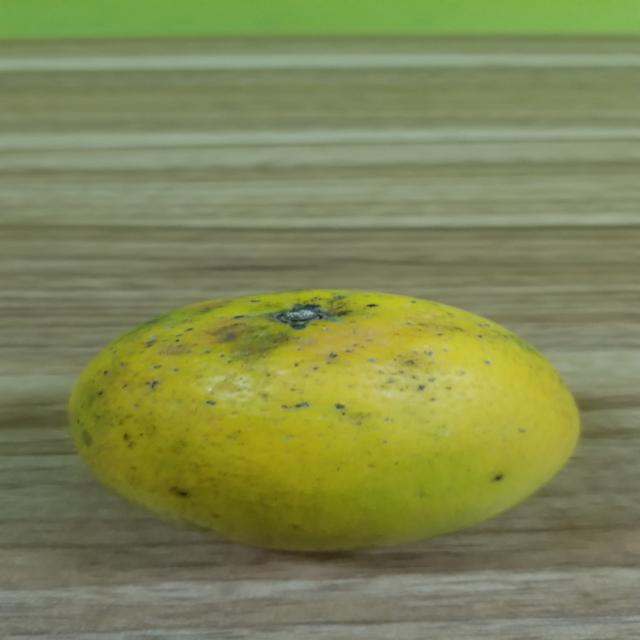Ripe orange: (69, 282, 578, 548)
